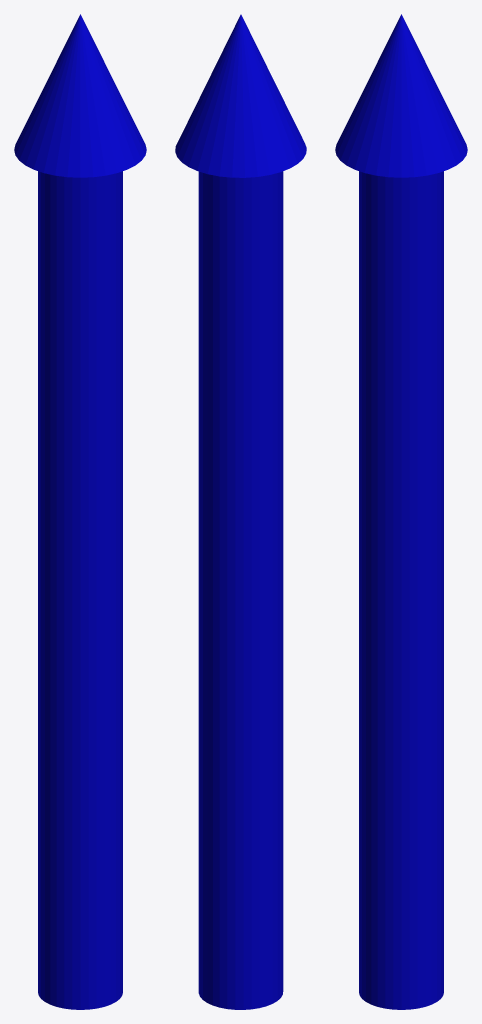
The model's file is AxisArrowZ.obj.
The picture shows the model from 3 angles, left to right: view 1: azimuth 90°, elevation 25°; view 2: azimuth 150°, elevation 25°; view 3: azimuth 270°, elevation 25°; orthographic projection.
Visible parts, largest first — view 1: z.001; view 2: z.001; view 3: z.001.
Boxes of the visible parts, x1,y1,x2,y2 form: z.001: (14,14,146,1009); z.001: (175,14,306,1009); z.001: (335,14,467,1009).
Bounding box in the file's own units: 0.234 × 1.92 × 0.2361.
